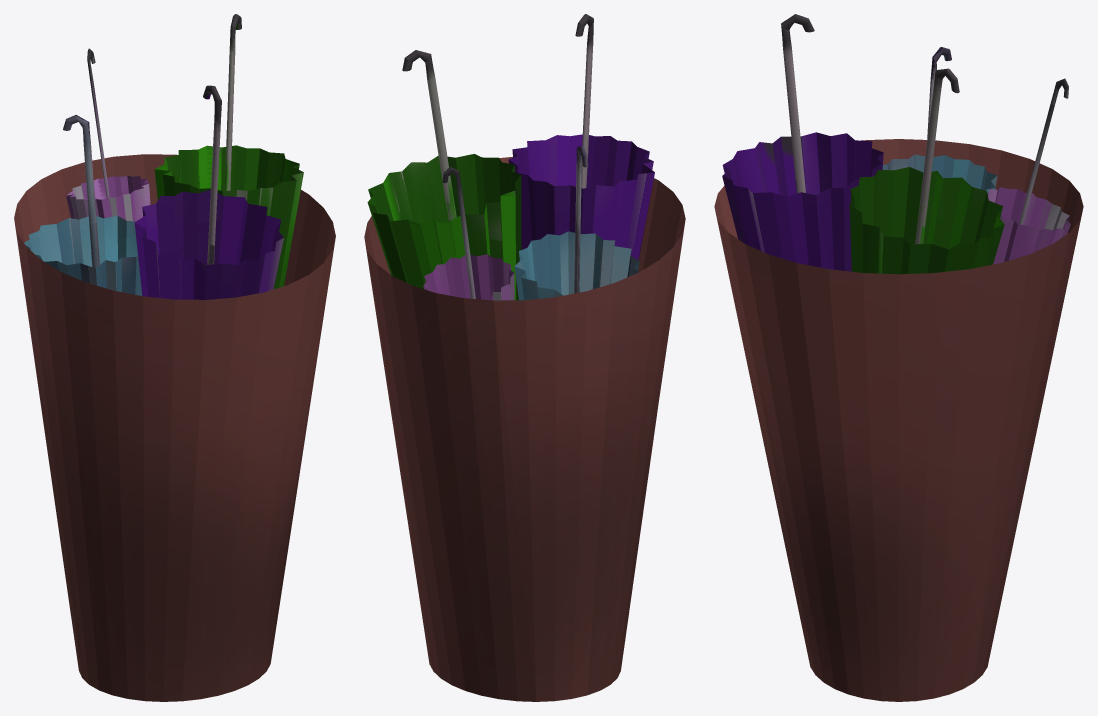
File: Paraguero_2.fbx
The picture shows the model from 3 angles, left to right: view 1: azimuth 30°, elevation 25°; view 2: azimuth 150°, elevation 25°; view 3: azimuth 270°, elevation 25°; orthographic projection. The views are drawn at different scales.
Parts seen in each view (by area): view 1: Cylinder, Cylinder.001, Cylinder.002, Cylinder.003, Cylinder.004; view 2: Cylinder, Cylinder.002, Cylinder.001, Cylinder.003, Cylinder.004; view 3: Cylinder, Cylinder.001, Cylinder.002, Cylinder.004, Cylinder.003.
Part boxes in pixels (left/top/right/bottom): Cylinder: left=14, top=154, right=335, bottom=701; Cylinder.001: left=134, top=85, right=283, bottom=299; Cylinder.002: left=154, top=14, right=303, bottom=288; Cylinder.003: left=24, top=115, right=142, bottom=295; Cylinder.004: left=66, top=48, right=150, bottom=221; Cylinder: left=364, top=156, right=685, bottom=701; Cylinder.002: left=367, top=50, right=521, bottom=300; Cylinder.001: left=508, top=14, right=654, bottom=260; Cylinder.003: left=514, top=146, right=639, bottom=300; Cylinder.004: left=423, top=166, right=514, bottom=300; Cylinder: left=714, top=139, right=1083, bottom=701; Cylinder.001: left=722, top=14, right=883, bottom=271; Cylinder.002: left=849, top=68, right=1004, bottom=274; Cylinder.004: left=987, top=78, right=1070, bottom=264; Cylinder.003: left=882, top=47, right=997, bottom=192.
Size of the model in its own units: 281 by 618 by 324.
